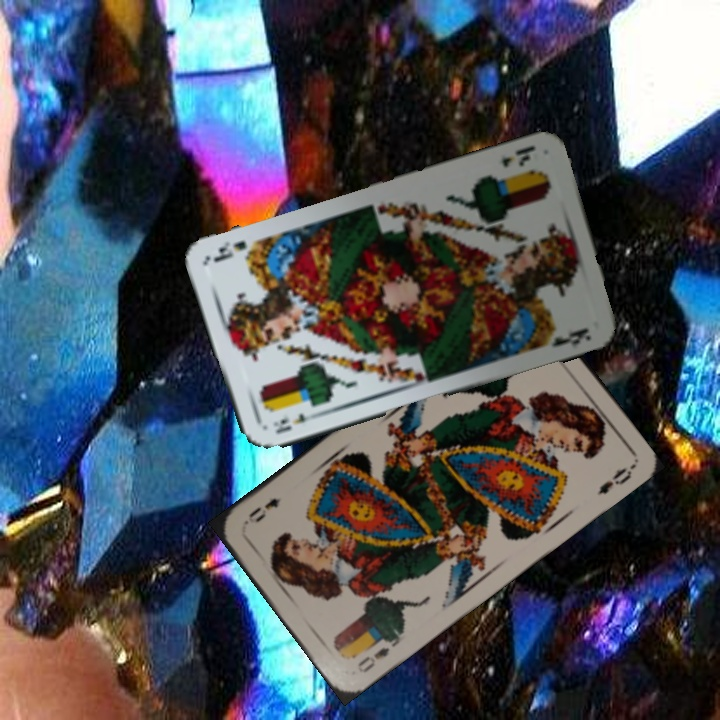EK: (269, 408, 321, 436), (497, 141, 538, 171)
EO: (353, 633, 401, 676)
